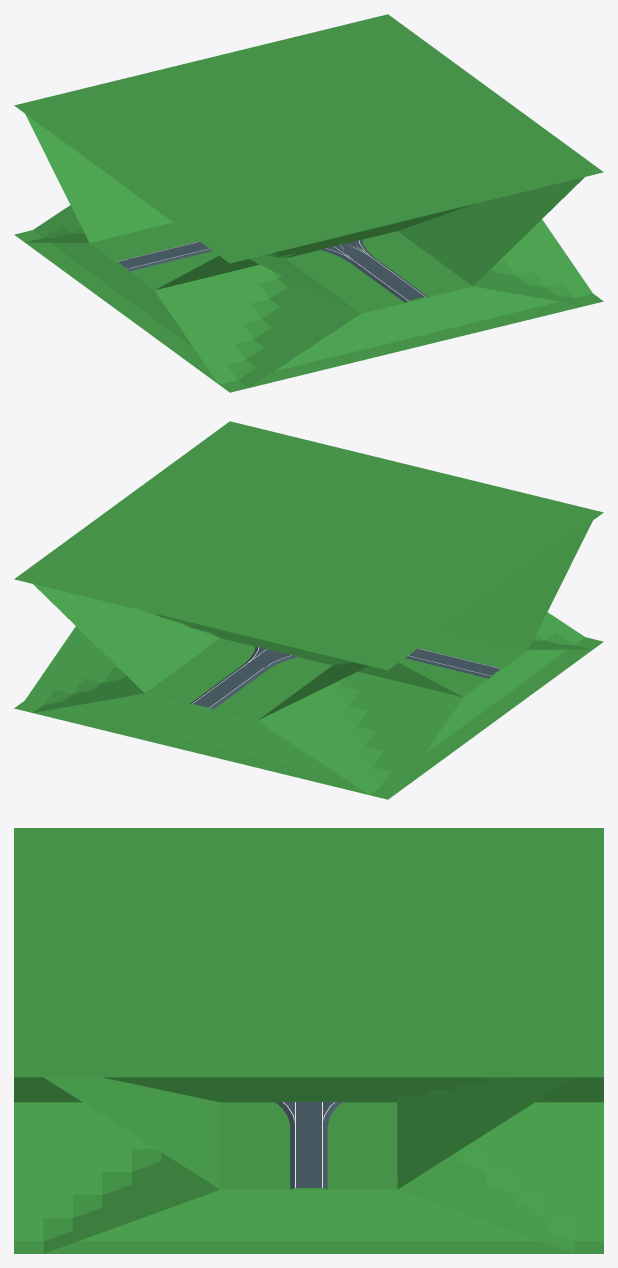
The model's file is Segments.fbx.
The picture shows the model from 3 angles, top to bottom: view 1: azimuth 30°, elevation 25°; view 2: azimuth 150°, elevation 25°; view 3: azimuth 270°, elevation 25°; orthographic projection. The views are drawn at different scales.
Parts seen in each view (by area): view 1: Land.0000, Land.0001, Land.0011, Land.0010, Land.1001, Land.1100, Track.0001, Land.1000, Track.0101, Track.0011, Land.0100; view 2: Land.0000, Land.1000, Land.1100, Land.0100, Land.0001, Land.1001, Land.1101, Track.0101, Track.0001, Track.0100; view 3: Land.0000, Land.0010, Land.0100, Land.0110, Land.0001, Land.1100, Track.0010, Track.0101, Track.0011, Land.1000.
Boxes of the visible parts, x1,y1,x2,y2 form: Land.0000: (14, 14, 603, 263); Land.0001: (25, 114, 584, 392); Land.0011: (249, 286, 584, 387); Land.0010: (249, 219, 603, 313); Land.1001: (25, 242, 218, 384); Land.1100: (15, 204, 473, 289); Track.0001: (117, 241, 427, 302); Land.1000: (14, 205, 259, 290); Track.0101: (129, 241, 420, 298); Track.0011: (127, 241, 212, 268); Land.0100: (264, 210, 455, 258); Land.0000: (14, 421, 603, 670); Land.1000: (33, 521, 592, 799); Land.1100: (19, 540, 582, 798); Land.0100: (14, 626, 368, 720); Land.0001: (144, 611, 603, 697); Land.1001: (399, 649, 592, 791); Land.1101: (33, 694, 365, 793); Track.0101: (198, 649, 488, 705); Track.0001: (407, 648, 500, 678); Track.0100: (190, 646, 272, 709); Land.0000: (14, 828, 603, 1077); Land.0010: (14, 1077, 573, 1253); Land.0100: (44, 1077, 603, 1253); Land.0110: (44, 1189, 573, 1253); Land.0001: (14, 1077, 514, 1102); Land.1100: (127, 1093, 603, 1253); Track.0010: (276, 1102, 327, 1189); Track.0101: (290, 1102, 327, 1182); Track.0011: (290, 1102, 327, 1182); Land.1000: (536, 1077, 603, 1102).
Bounding box in the file's own units: 200 × 66 × 200.
